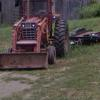Tractor: (8, 5, 73, 73)
